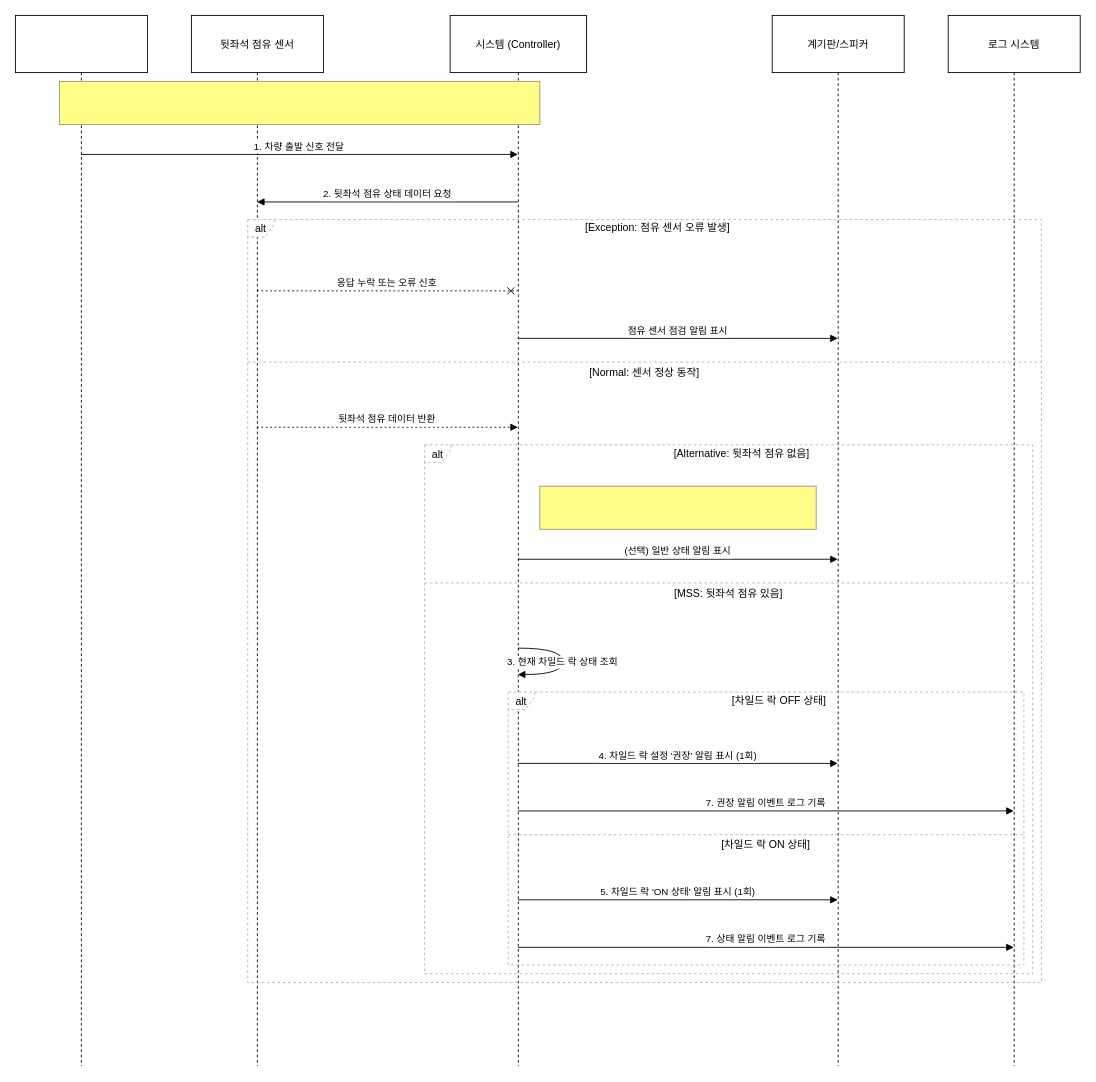
The diagram is 1096 pixels wide and 1082 high, and some of its shapes have lost their labels. The box of each missing label's shape, as (x1, y1, x2, y2) in pixels:
Trigger: 차량 출발 상태 진입 감지: (59, 81, 540, 125)
설정에 따라 상태 알림만 표시하거나 생략: (539, 485, 816, 529)
차량 상태 제어기: (15, 15, 147, 1066)
